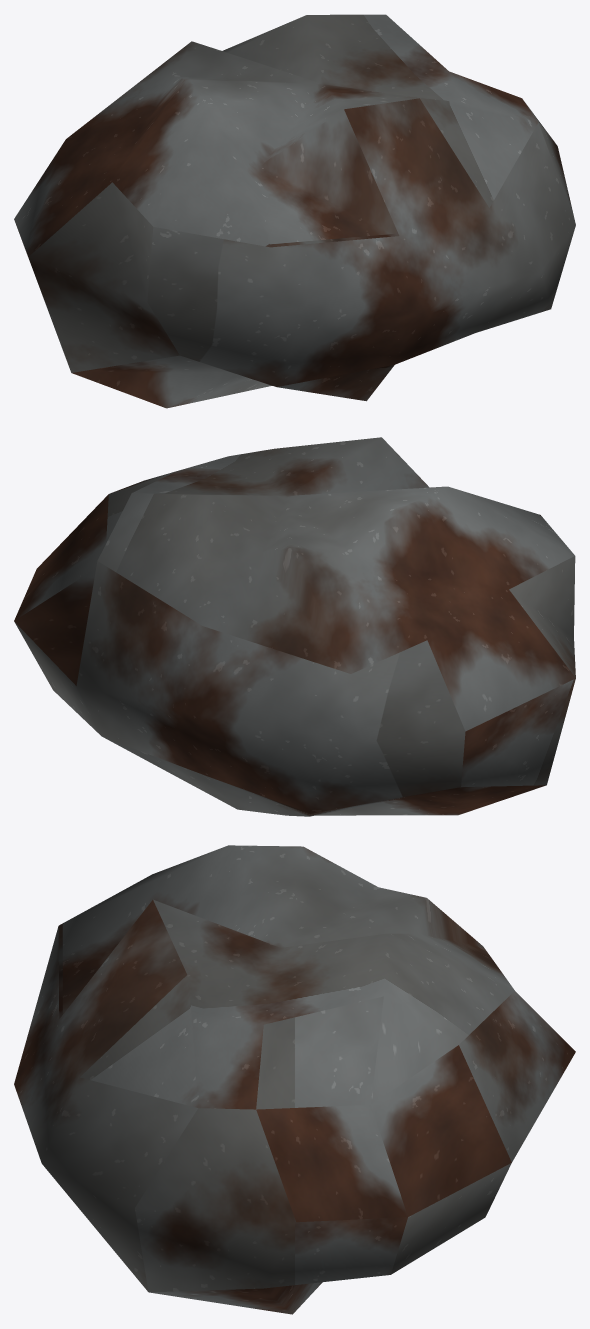
The model's file is NT04_rocks_v1.glb.
3 views of the same model, one above another, from view 1: azimuth 30°, elevation 25°; view 2: azimuth 150°, elevation 25°; view 3: azimuth 270°, elevation 25° (orthographic). The views are drawn at different scales.
Parts seen in each view (by area): view 1: NT04_rocks_v1; view 2: NT04_rocks_v1; view 3: NT04_rocks_v1.
Part boxes in pixels (bbox=[...]): NT04_rocks_v1: bbox=[14, 14, 575, 408]; NT04_rocks_v1: bbox=[14, 437, 575, 816]; NT04_rocks_v1: bbox=[14, 845, 575, 1314].
Size of the model in its own units: 1 by 0.5956 by 0.8135.
1 material, 1 textured.
